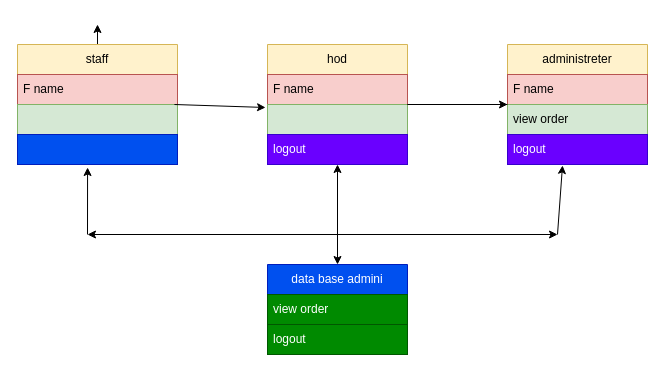
Image size: 665x372. Some labels were removed from this diagram. The shapes that lost their labels are listed below. From the top down, each one's centre as x and y in pixels, then its label:
At pixel 97 119: "facallty".
At pixel 337 119: "e mail adress".
At pixel 97 149: "e-mail id".
